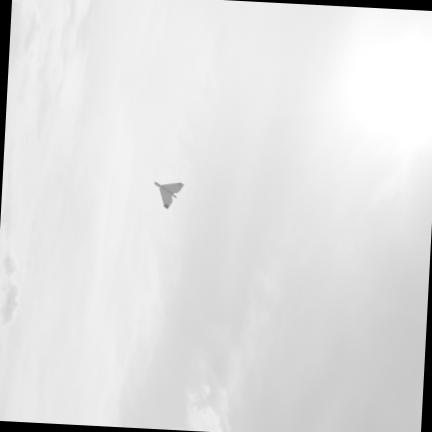Shahed: (154, 182, 183, 208)
